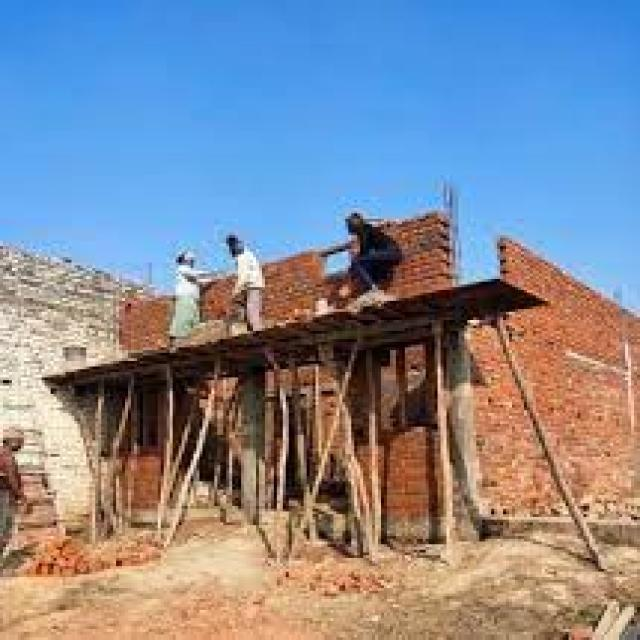Framing: (155, 377, 415, 536)
Masonary: (111, 253, 640, 540)
